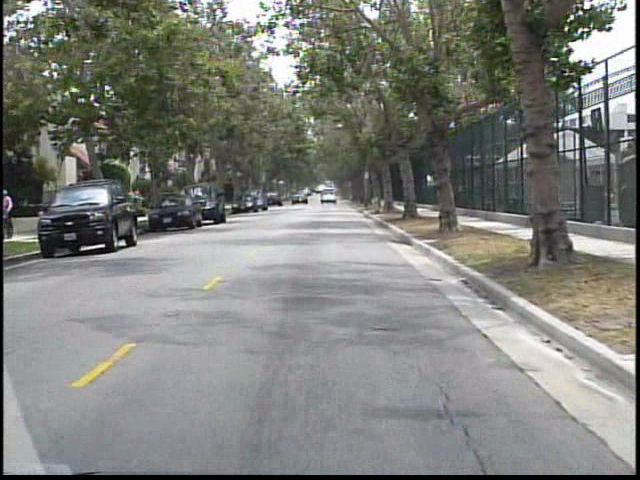person: (3, 185, 19, 228)
